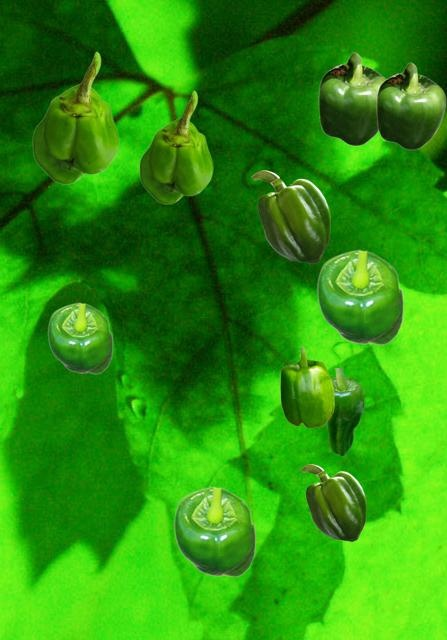bell_pepper: (32, 51, 118, 183), (316, 249, 403, 344), (139, 90, 212, 203), (173, 486, 255, 576), (251, 170, 329, 262), (318, 52, 386, 145), (376, 62, 445, 149), (300, 464, 365, 540), (47, 302, 112, 373), (280, 346, 333, 427), (326, 368, 363, 455)
